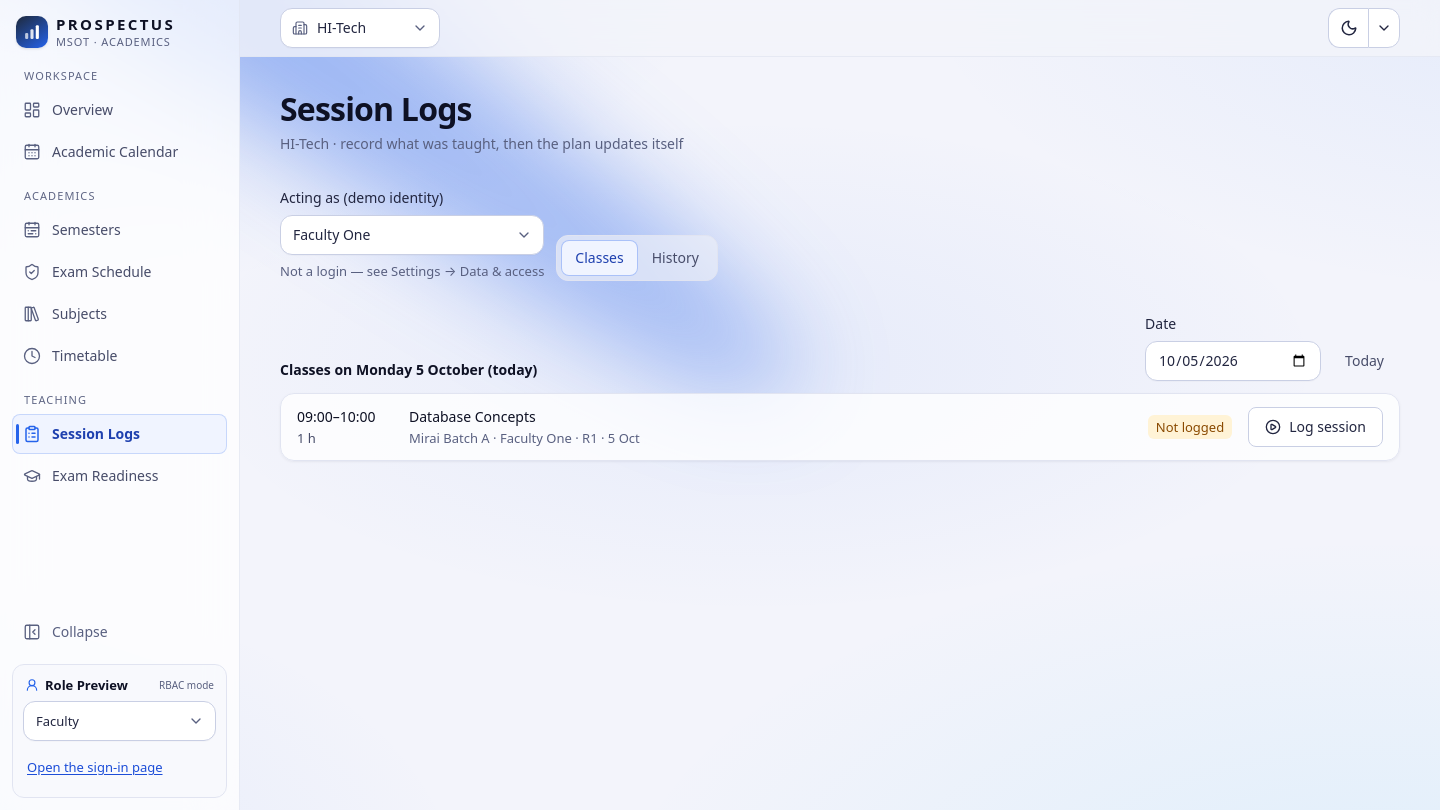
smart carry-forward in the logging dialog › prefills the form (all selected, note composed) without marking anything completed, and saves the selection as leftover
What coordinates should you click on to do the following:
click the button with aria-label "Log session for Database Concepts, Mirai Batch A, 5 Oct"
I would click on:
 (1316, 427)
Its box is [1248,407,1383,447].
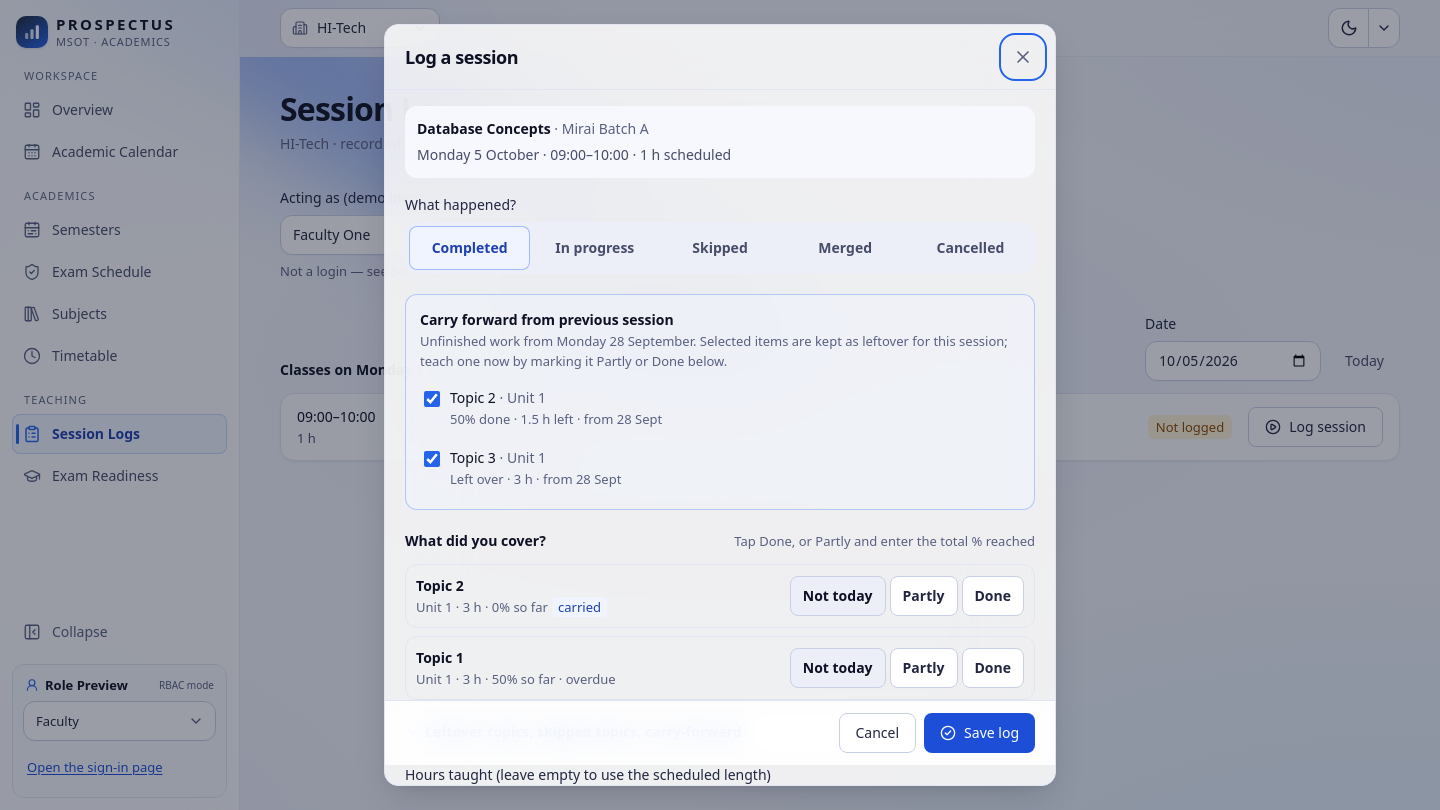
Result: the checkbox named "Carry forward Topic 2" is checked at [424,391,440,407]
Result: the checkbox named "Carry forward Topic 3" is checked
What coordinates should you click on to do the following:
click the checkbox named "Carry forward Topic 3"
I would click on:
 (432, 459)
Its box is [424,451,440,467].
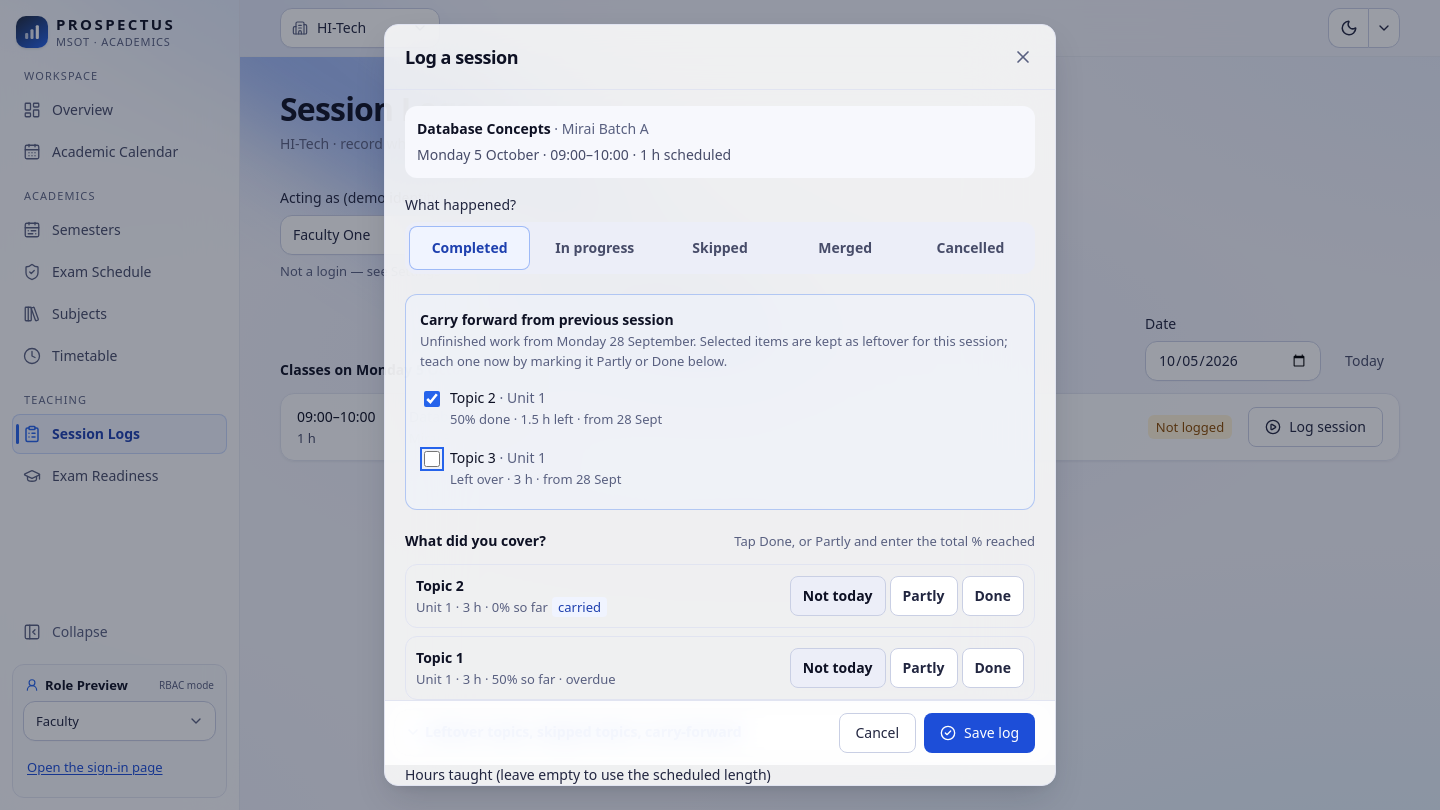
What coordinates should you click on to do the following:
click the button "Done" in the row of "· overdue"
I would click on:
 (993, 668)
Its box is [962,648,1024,688].
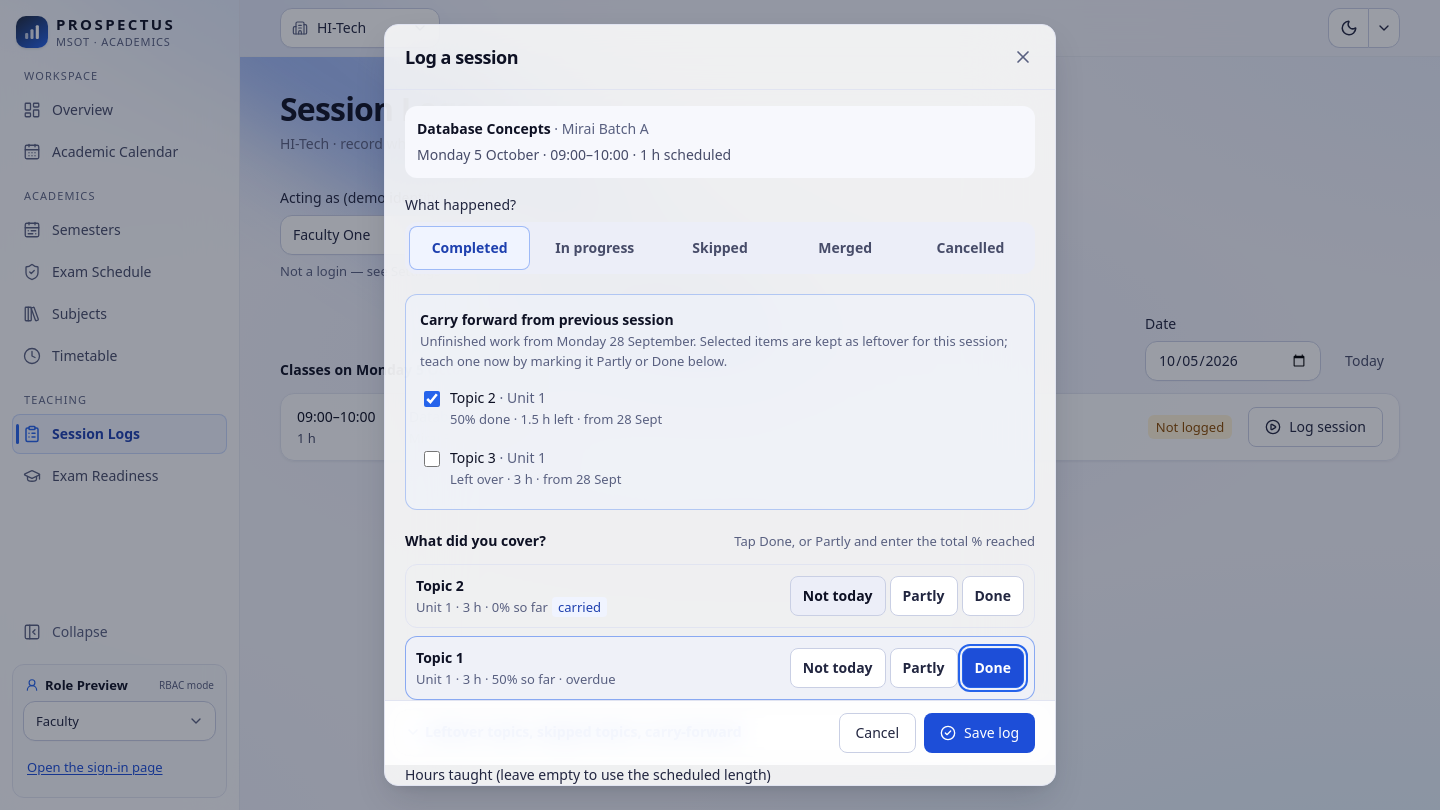
What coordinates should you click on to do the following:
click the button "Save log"
I would click on:
 (980, 733)
Its box is [924,713,1035,753].
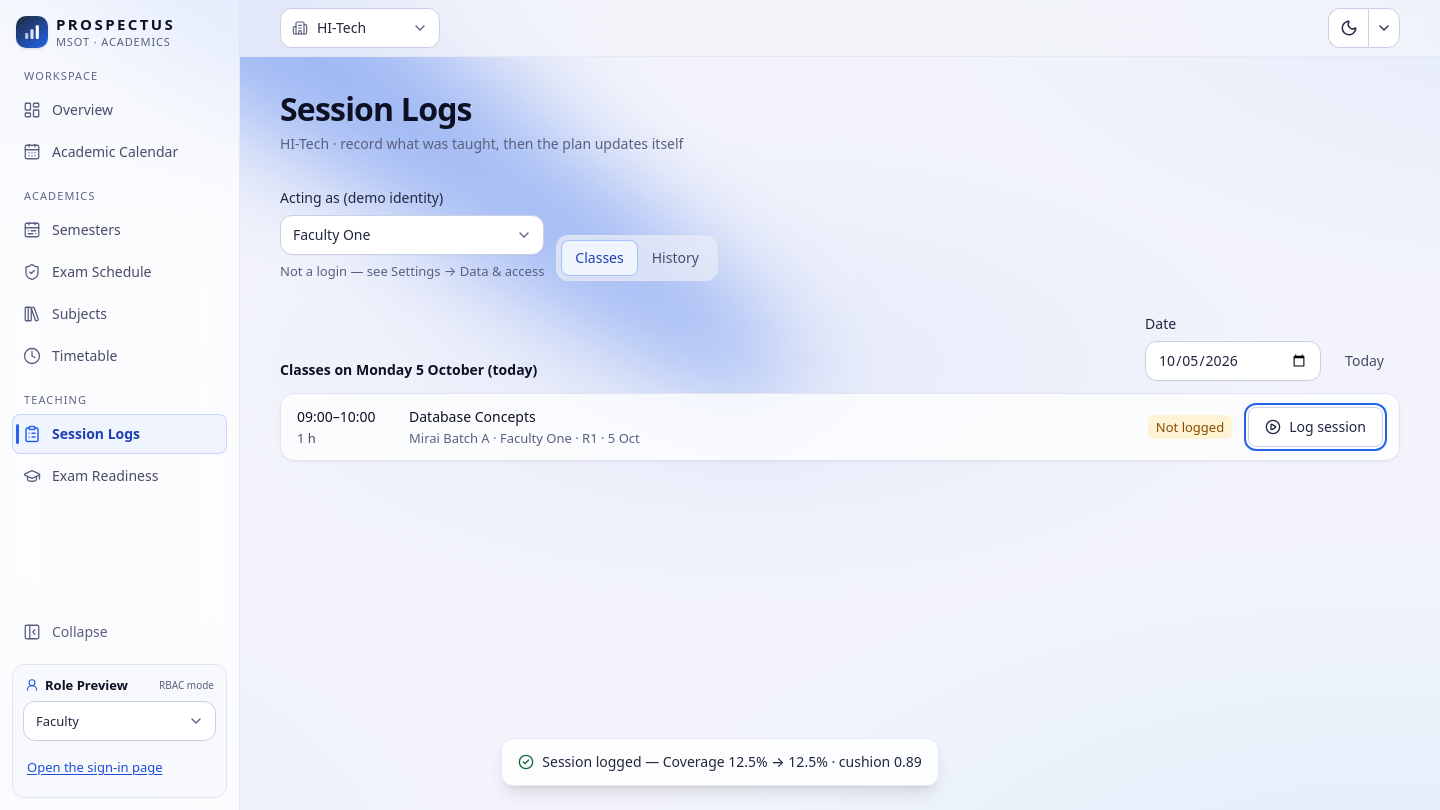
Result: the dialog is gone
